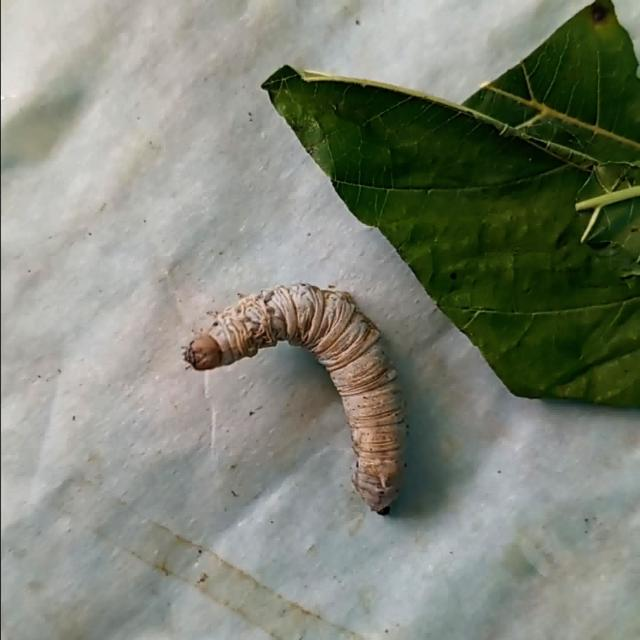Grasserie: (170, 261, 422, 520)
